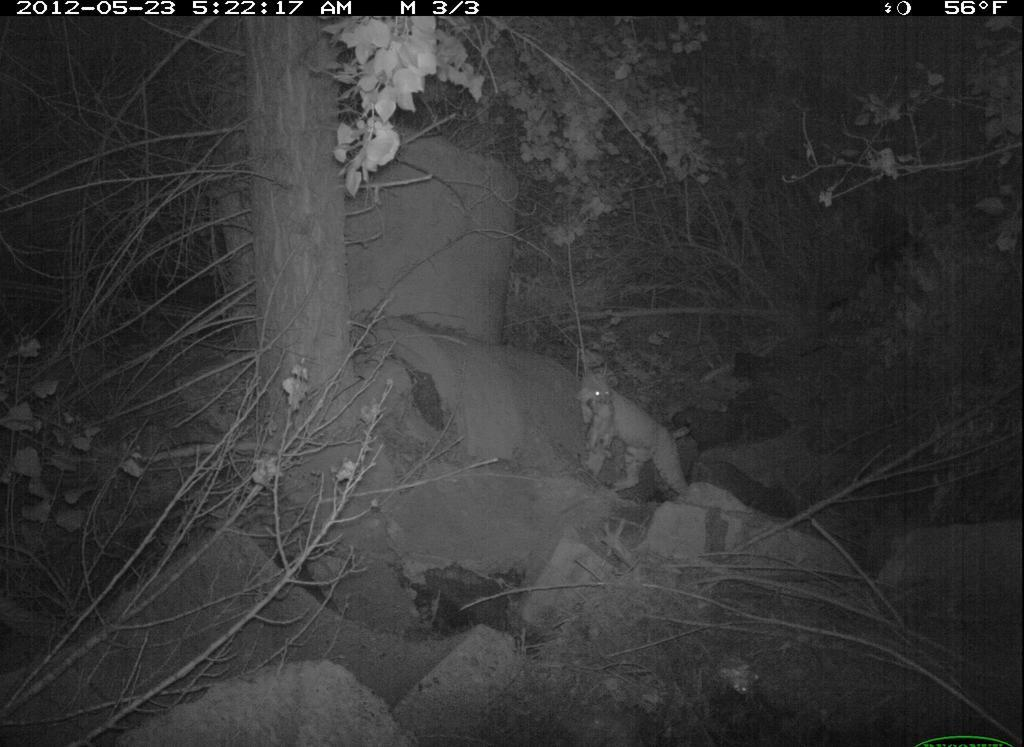bobcat: (575, 364, 699, 511)
